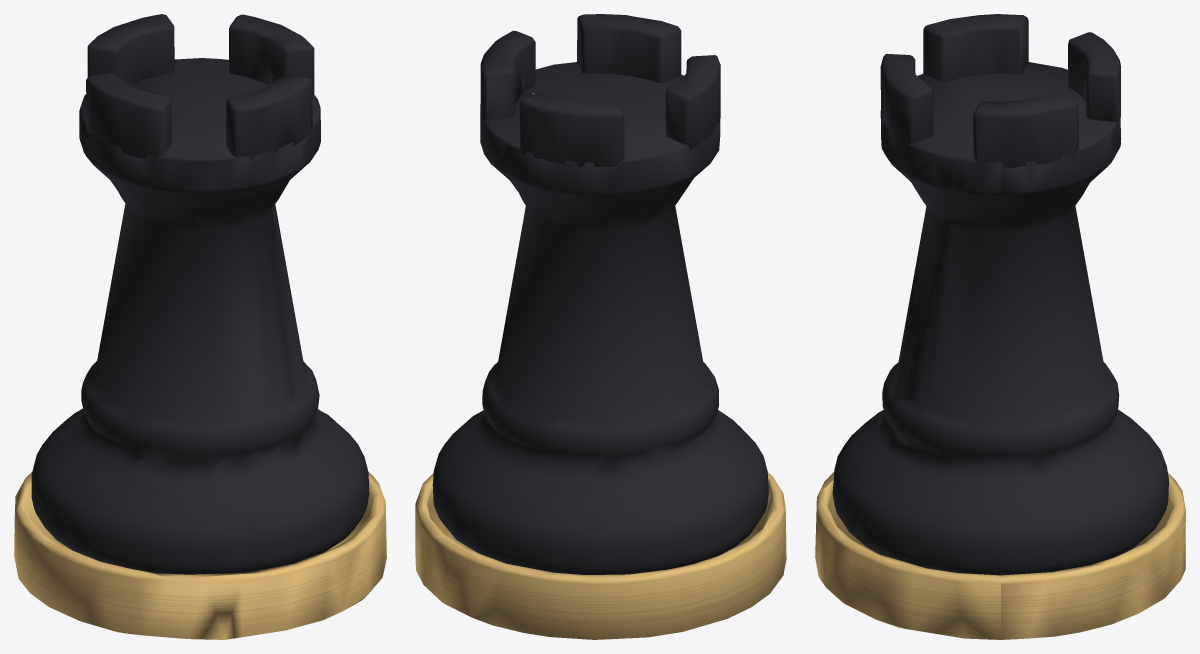
The model's file is aurum_rook_black.glb.
The picture shows the model from 3 angles, left to right: view 1: azimuth 30°, elevation 25°; view 2: azimuth 150°, elevation 25°; view 3: azimuth 270°, elevation 25°; orthographic projection.
Visible parts, largest first — view 1: Aurum Noir – Rook; view 2: Aurum Noir – Rook; view 3: Aurum Noir – Rook.
Boxes of the visible parts, x1=… form: Aurum Noir – Rook: x1=14, y1=14, x2=386, y2=639; Aurum Noir – Rook: x1=415, y1=14, x2=786, y2=639; Aurum Noir – Rook: x1=815, y1=14, x2=1185, y2=639.
Bounding box in the file's own units: 0.043 × 0.064 × 0.043.
Materials: 2 (1 with a texture image).
